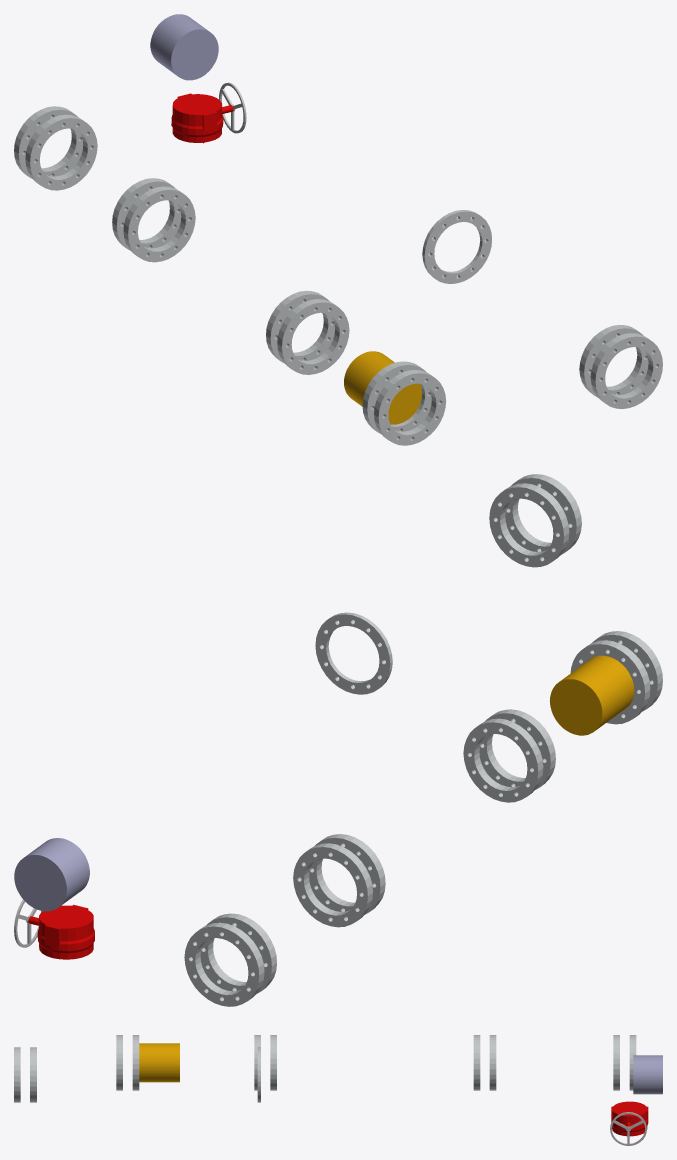
3 renders of one model, top to bottom at view 1: azimuth 30°, elevation 25°; view 2: azimuth 150°, elevation 25°; view 3: azimuth 270°, elevation 25°, orthographic. The views are drawn at different scales.
Size of the model in its own units: 1.46 by 0.8106 by 5.37.
